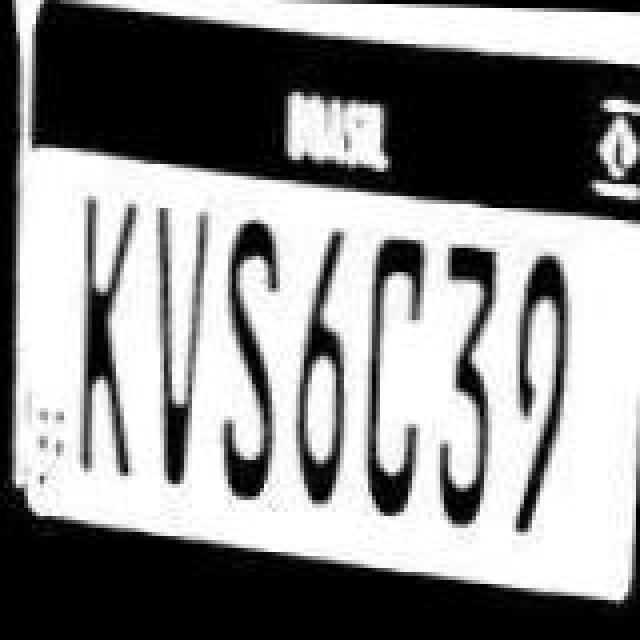3: (420, 232, 508, 544)
6: (284, 224, 356, 520)
9: (506, 248, 574, 552)
C: (348, 226, 428, 530)
K: (60, 178, 152, 486)
S: (206, 206, 290, 510)
V: (142, 202, 210, 506)
